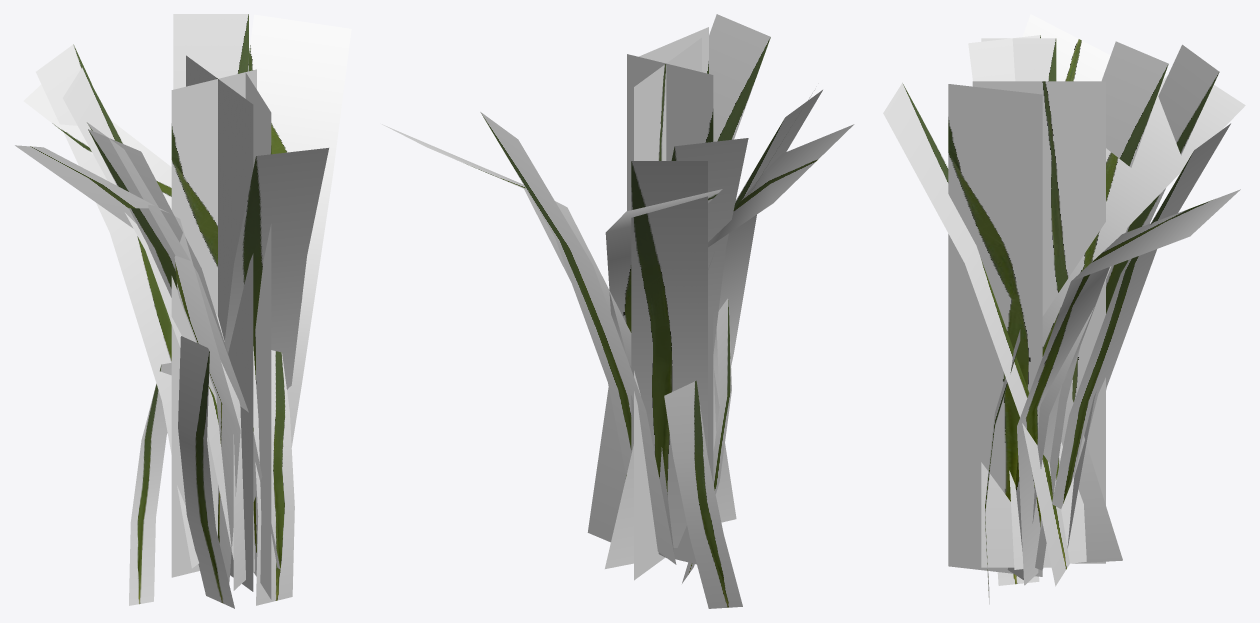
File: TouffeHerbe.fbx
The picture shows the model from 3 angles, left to right: view 1: azimuth 30°, elevation 25°; view 2: azimuth 150°, elevation 25°; view 3: azimuth 270°, elevation 25°; orthographic projection. The views are drawn at different scales.
Visible parts, largest first — view 1: pPlane44; view 2: pPlane44; view 3: pPlane44.
Part boxes in pixels (bbox=[...]): pPlane44: bbox=[15, 14, 351, 608]; pPlane44: bbox=[382, 14, 854, 608]; pPlane44: bbox=[883, 14, 1245, 604].
Size of the model in its own units: 0.1352 by 0.1723 by 0.1105.
1 material, 1 textured.
